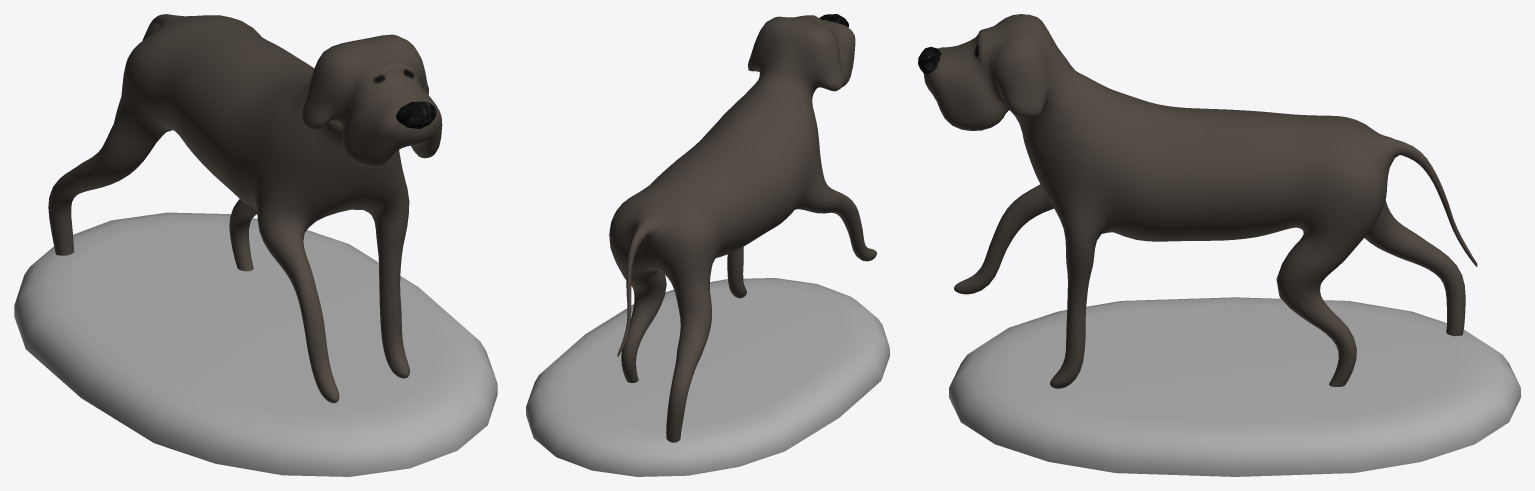
The model's file is dog.fbx.
The picture shows the model from 3 angles, left to right: view 1: azimuth 30°, elevation 25°; view 2: azimuth 150°, elevation 25°; view 3: azimuth 270°, elevation 25°; orthographic projection. The views are drawn at different scales.
Parts seen in each view (by area): view 1: Cane; view 2: Cane; view 3: Cane.
Part boxes in pixels (x1,y1,x2,y2): Cane: [14, 14, 497, 476]; Cane: [526, 14, 889, 476]; Cane: [918, 14, 1520, 476].
Bounding box in the file's own units: 0.5385 × 0.588 × 0.8676.
